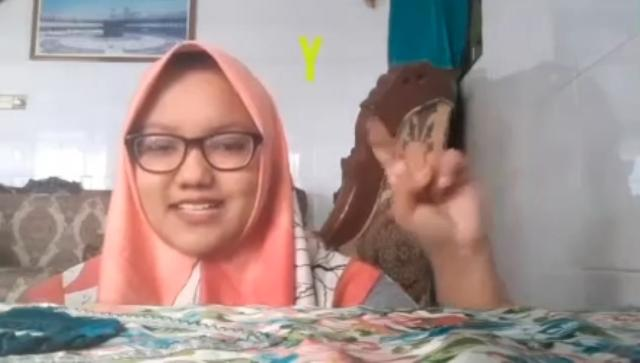Z: (361, 113, 483, 247)
